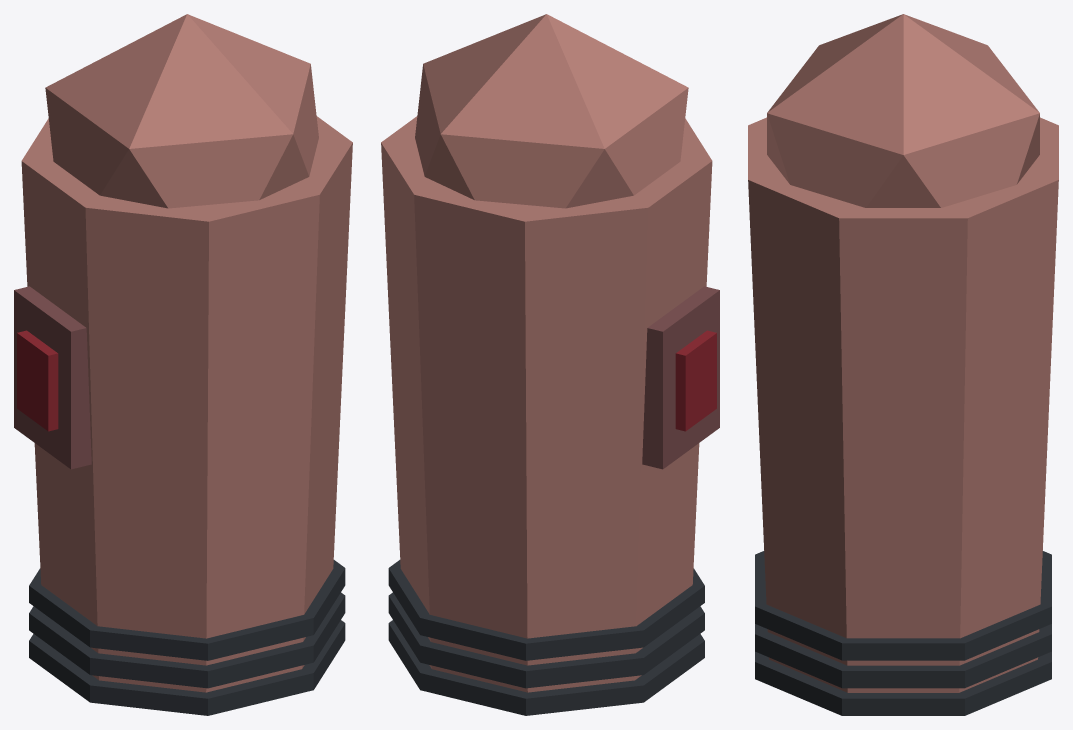
Rendered from inf_driver_lower_arm_l.fbx.
3 views of the same model, side by side, from view 1: azimuth 30°, elevation 25°; view 2: azimuth 150°, elevation 25°; view 3: azimuth 270°, elevation 25° (orthographic).
Parts seen in each view (by area): view 1: inf_driver_lower_arm_l; view 2: inf_driver_lower_arm_l; view 3: inf_driver_lower_arm_l.
Part boxes in pixels (x1,y1,x2,y2): inf_driver_lower_arm_l: (14,14,352,715); inf_driver_lower_arm_l: (381,14,719,715); inf_driver_lower_arm_l: (748,14,1058,715).
Bounding box in the file's own units: 87.65 × 185 × 81.3.
